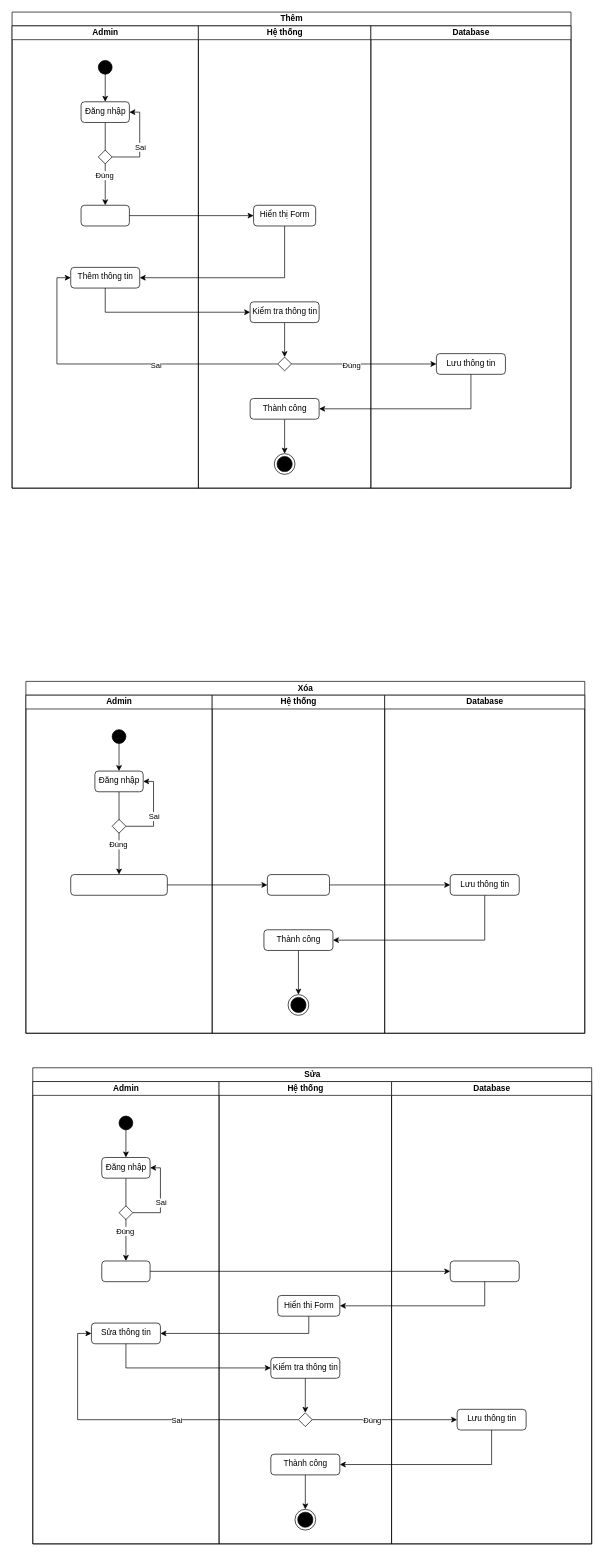
Image size: 604x1556. Some labels were removed from this diagram. Here are the shapes that lost their labels. From the top down, the box of each, then its label:
(80, 205, 129, 226): Chọn thêm
(70, 874, 167, 895): Chọn dữ liệu muốn xóa
(267, 874, 329, 895): Thực hiện xóa
(101, 1260, 150, 1282): Chọn sửa
(450, 1260, 519, 1282): Lấy thông tin
